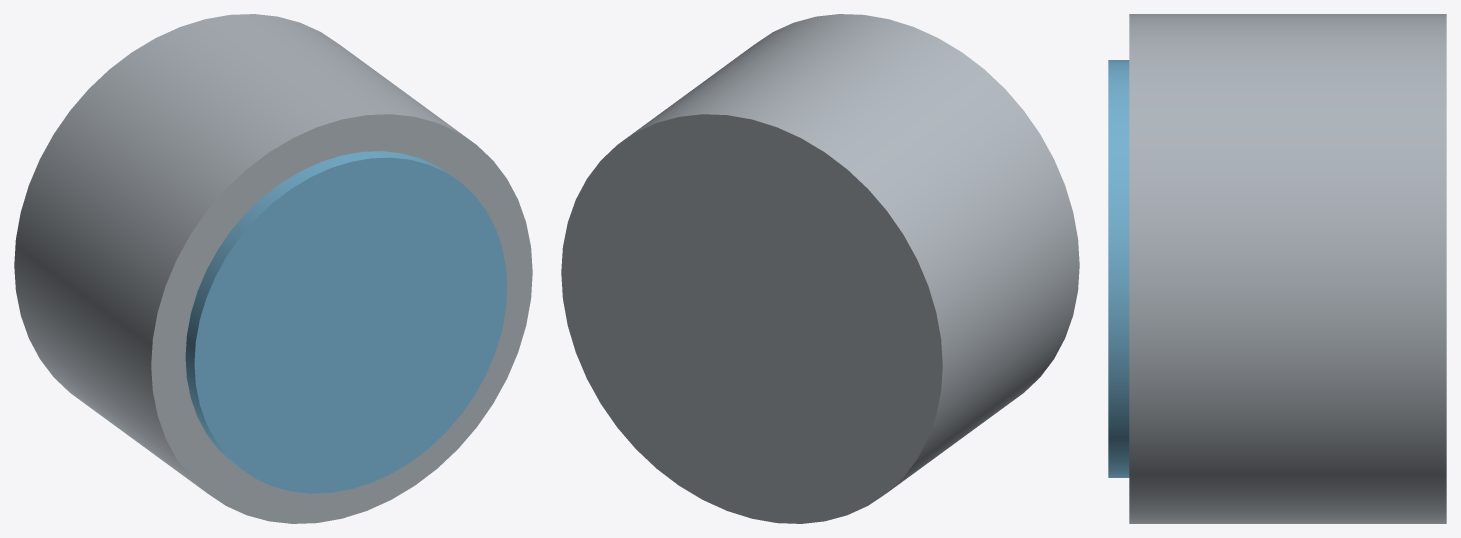
The model's file is shoulder_link.obj.
3 renders of one model, left to right at view 1: azimuth 30°, elevation 25°; view 2: azimuth 150°, elevation 25°; view 3: azimuth 270°, elevation 25°, orthographic. The views are drawn at different scales.
Visible parts, largest first — view 1: yaw_housing, service_cap; view 2: yaw_housing; view 3: yaw_housing, service_cap.
Part boxes in pixels (box(x1,y1,x2,y2)): yaw_housing: box(14, 14, 532, 523); service_cap: box(185, 151, 507, 493); yaw_housing: box(561, 14, 1079, 523); yaw_housing: box(1129, 14, 1446, 523); service_cap: box(1108, 60, 1129, 477).
Bounding box in the file's own units: 0.148 × 0.148 × 0.098.
